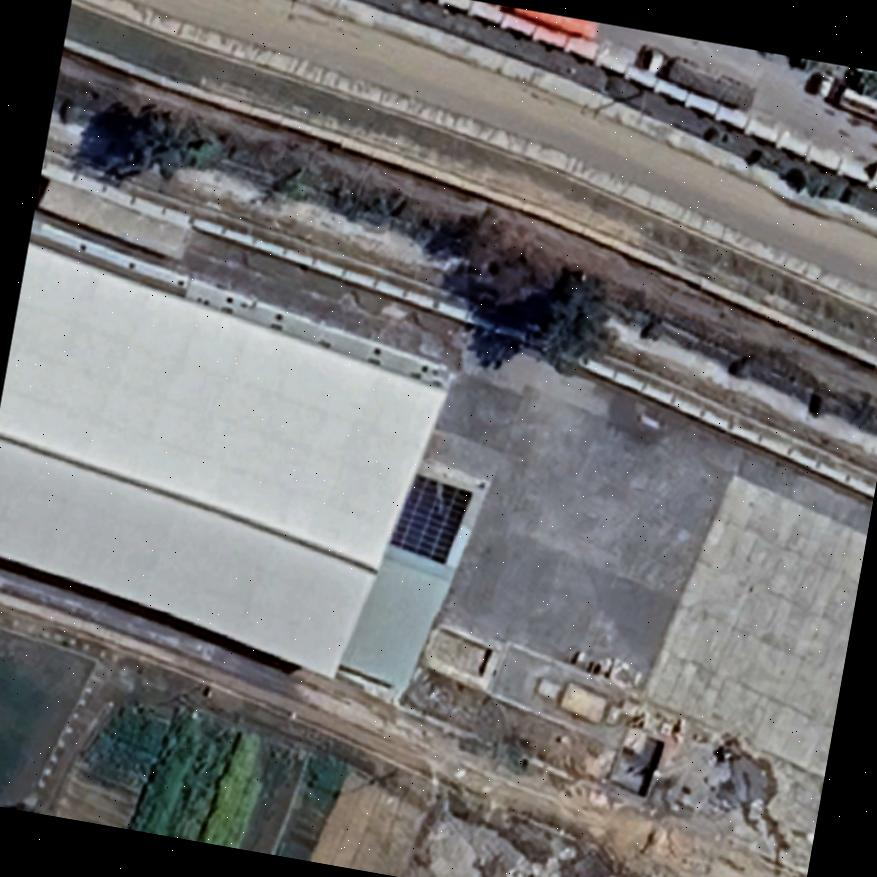Solarpanel: (379, 464, 479, 573)
